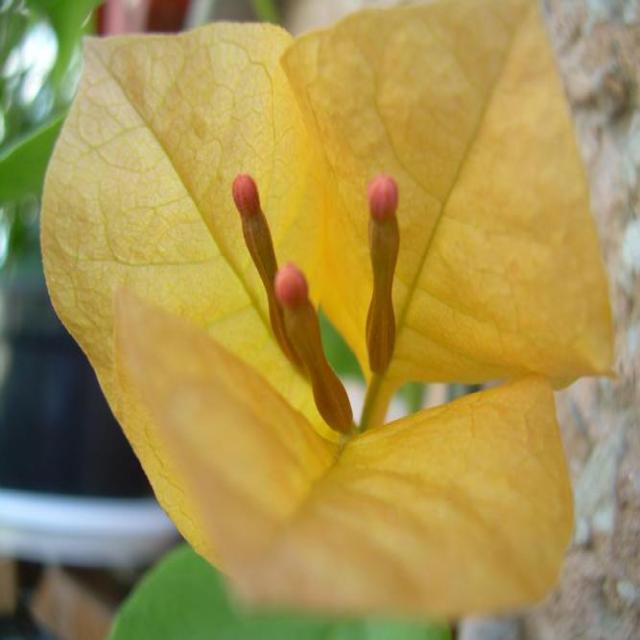bougainvillea: (42, 20, 640, 617)
